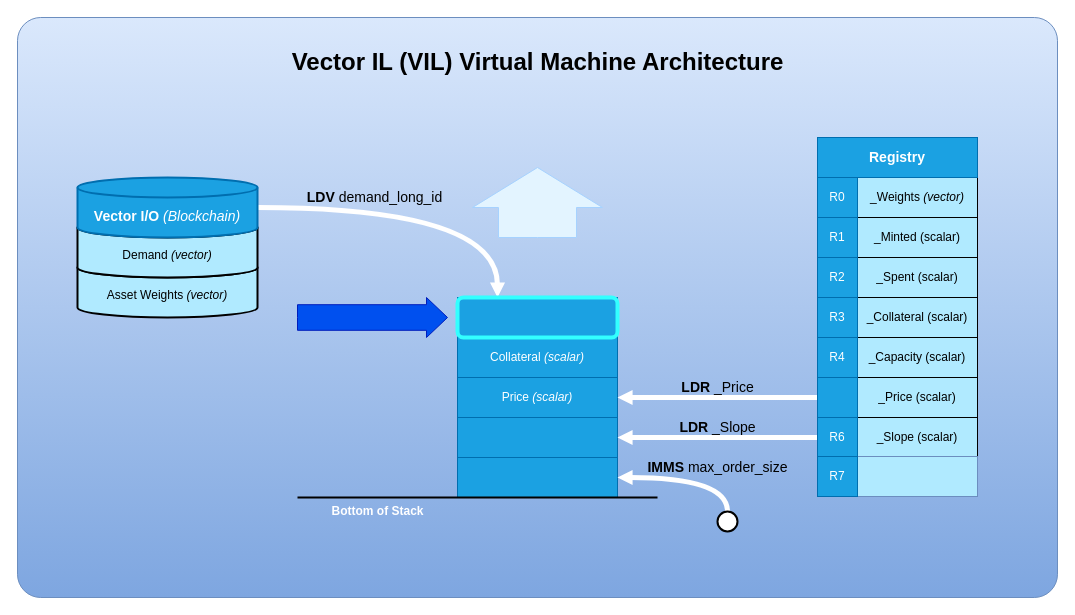
The diagram is 1075 pixels wide and 615 high, and some of its shapes have lost their labels. The centre of each missing label's shape, as x and y in pixels:
"Demand Long (vector)" belongs at (x=537, y=317).
"Max Order Size (scalar)" belongs at (x=537, y=477).
"R5" belongs at (x=837, y=397).
"Slope (scalar)" belongs at (x=537, y=437).
"Stack Growth Direction" belongs at (x=537, y=202).
"Top of Stack (TOS)" belongs at (x=372, y=317).
